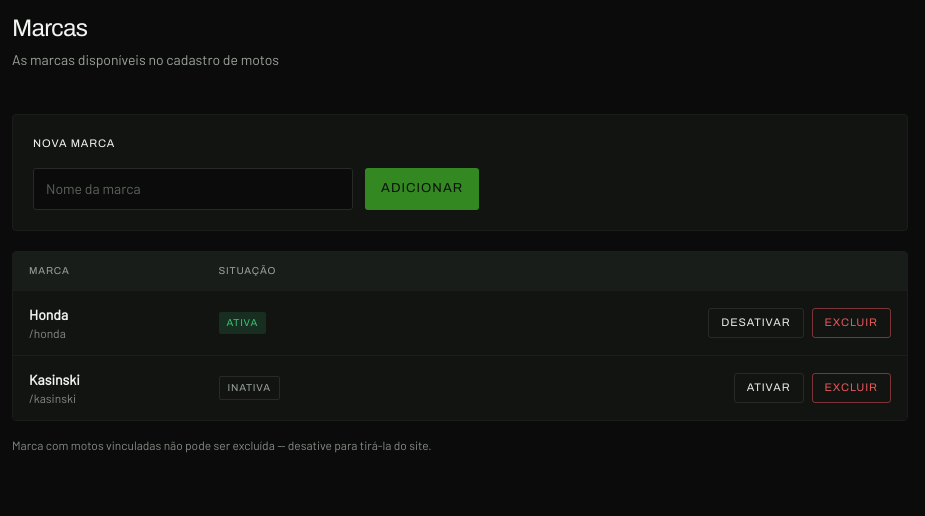
Test: marcas › marca com motos não sai: a explicação do servidor aparece
Check: the text "Honda" is shown, box [29,306,68,323]
Click the 1st button "Excluir": (851, 323) [812,308,891,338]
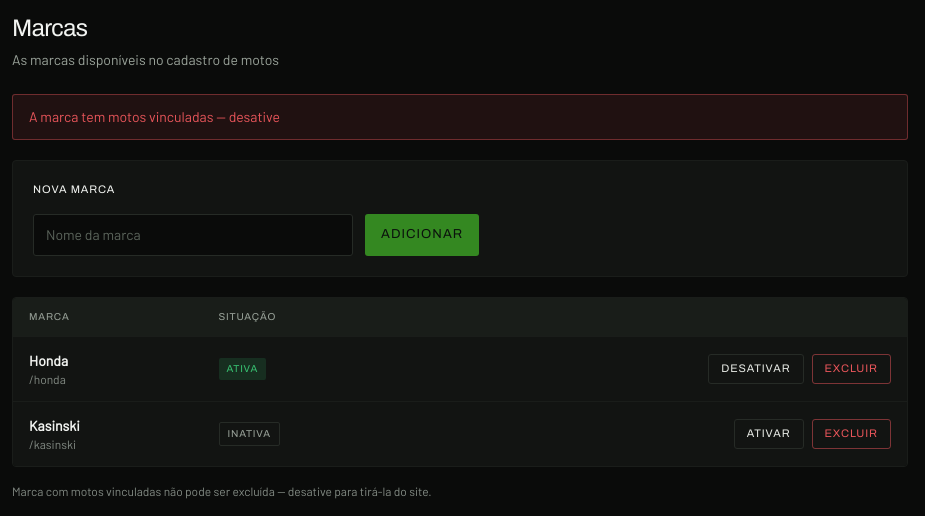
Check: the text "A marca tem motos vinculadas — desative" is shown, box [12,94,908,140]
